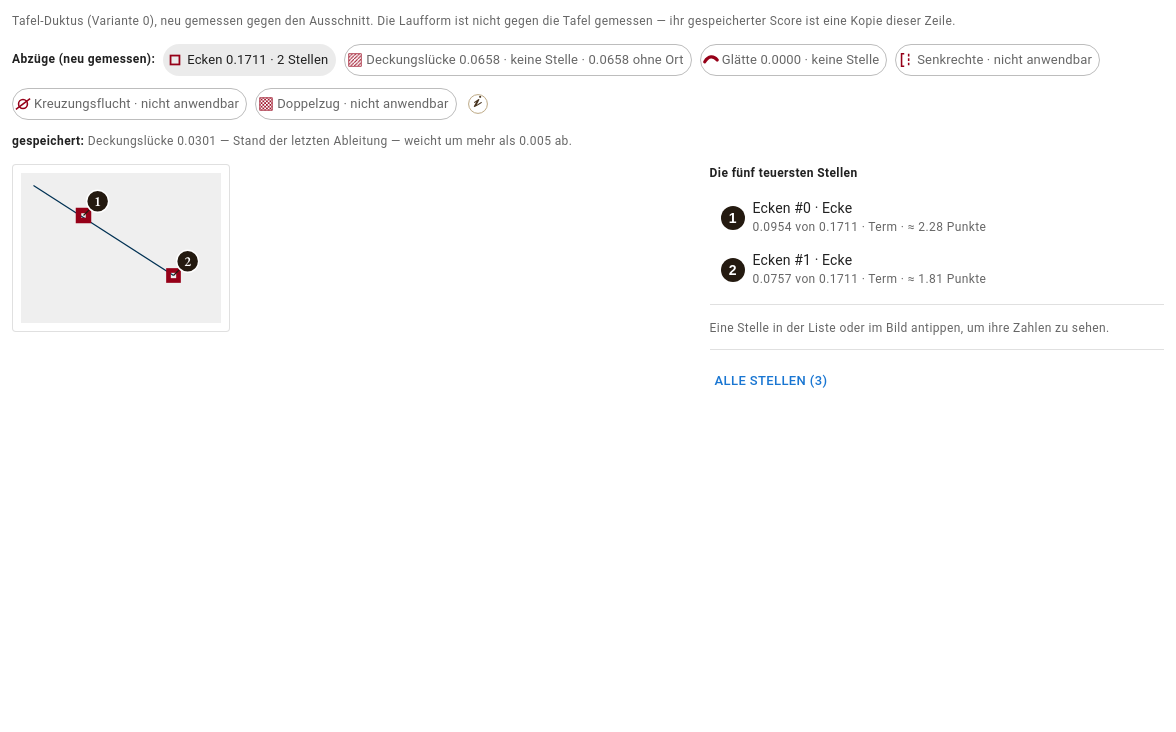
Test case: PenaltyPanel › never pins a site apportioned 0.0000, and counts one such site in the singular
What coordinates should you click on to do the following:
click the button "Alle Stellen (3)"
I would click on:
 (771, 382)
Its box is [710,360,832,404].
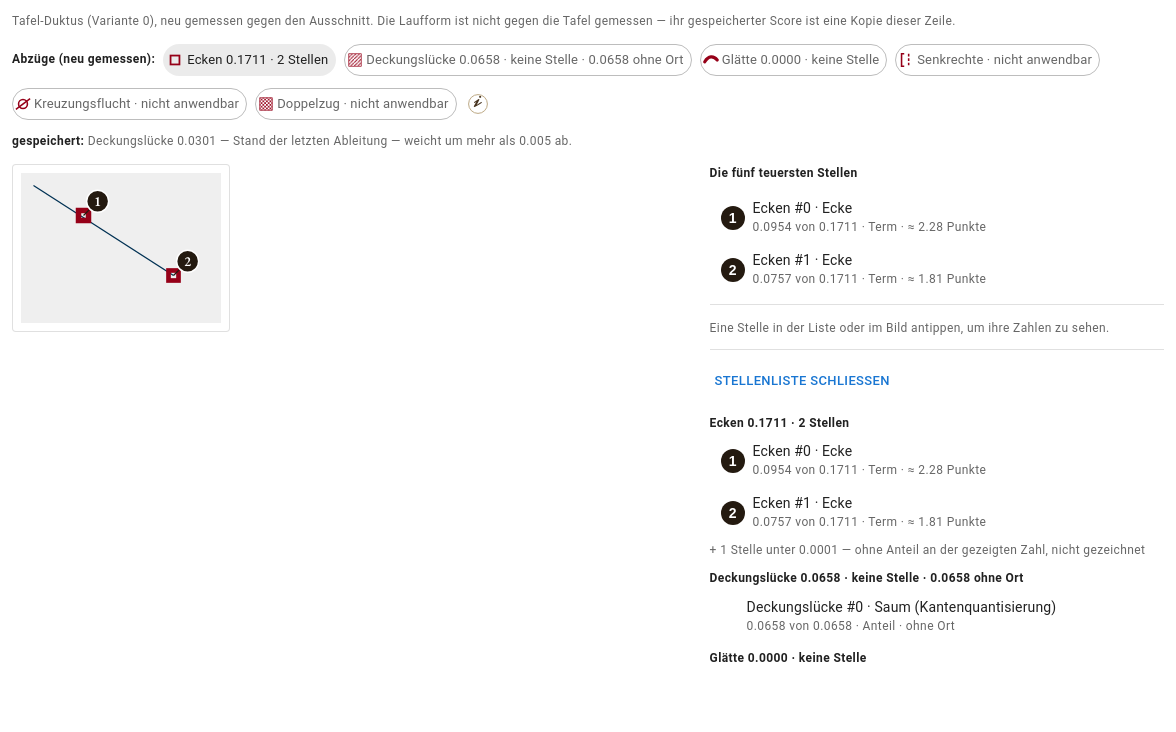
Expected: the text "+ 1 Stelle unter 0.0001" is shown, [710,543,1145,557]
